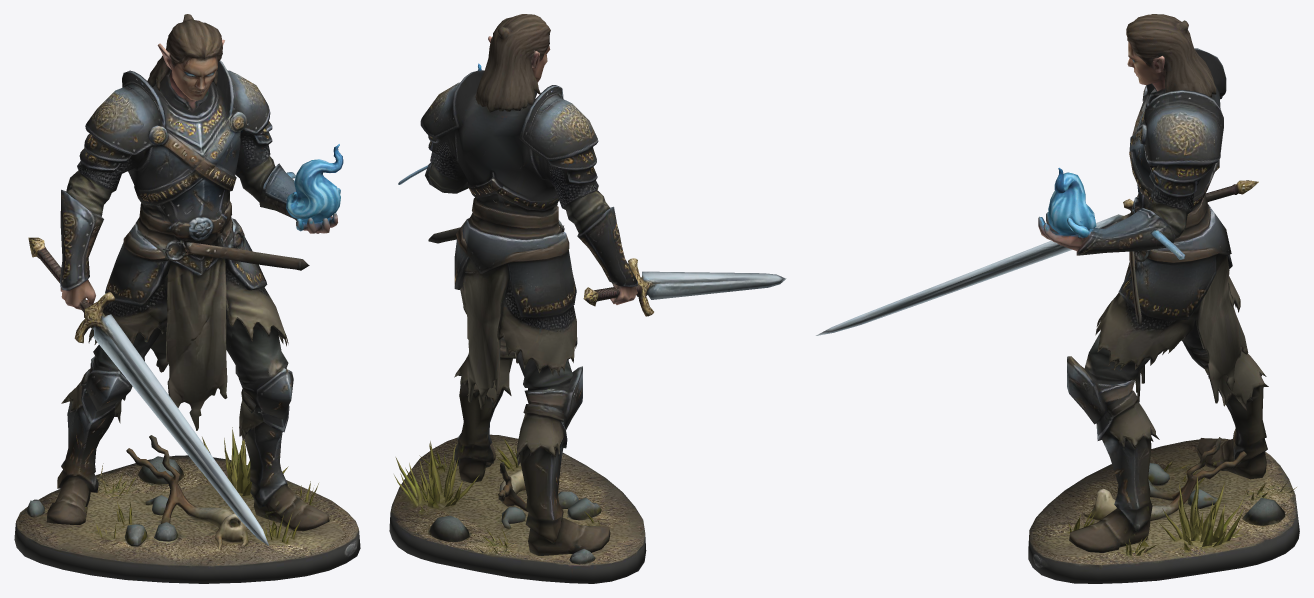
File: spellsword_alt1_male.glb
3 views of the same model, side by side, from view 1: azimuth 30°, elevation 25°; view 2: azimuth 150°, elevation 25°; view 3: azimuth 270°, elevation 25° (orthographic). The views are drawn at different scales.
Visible parts, largest first — view 1: tripo_node_90f0bb68-5831-4597-ae90-81396b95ebaa; view 2: tripo_node_90f0bb68-5831-4597-ae90-81396b95ebaa; view 3: tripo_node_90f0bb68-5831-4597-ae90-81396b95ebaa.
Part boxes in pixels (x1,y1,x2,y2): tripo_node_90f0bb68-5831-4597-ae90-81396b95ebaa: [14, 14, 360, 583]; tripo_node_90f0bb68-5831-4597-ae90-81396b95ebaa: [389, 14, 786, 583]; tripo_node_90f0bb68-5831-4597-ae90-81396b95ebaa: [816, 14, 1299, 583].
Size of the model in its own units: 0.5449 by 0.998 by 0.8613.
Materials: 1 (1 with a texture image).
